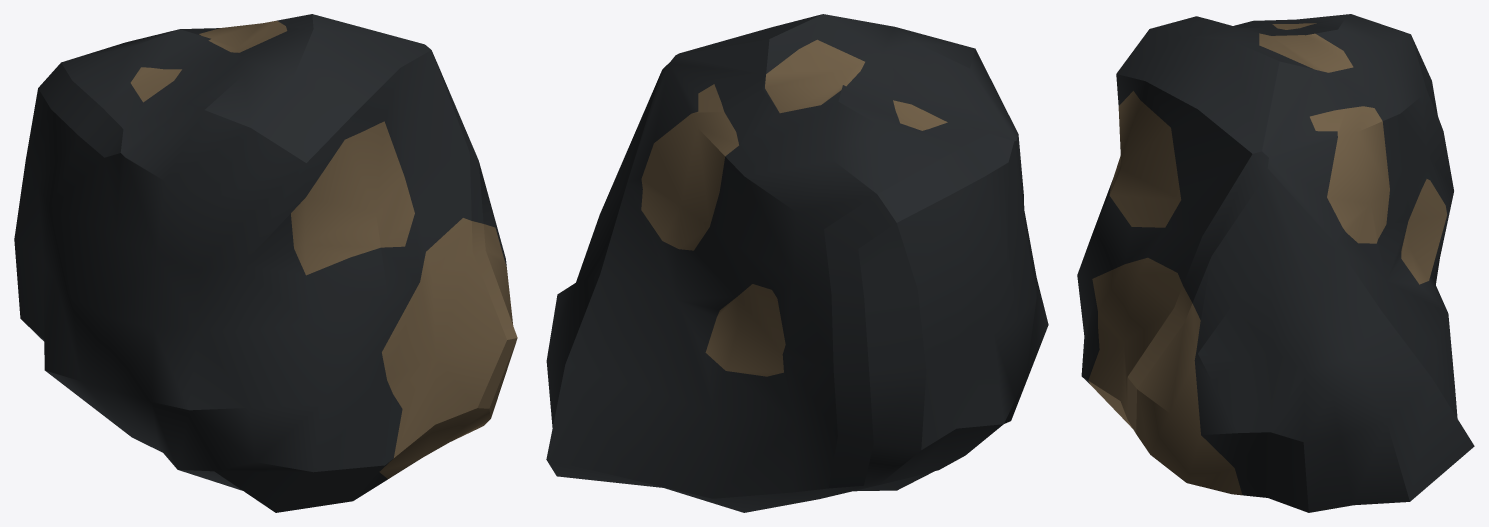
The model's file is Rock meduim 1 DQ.fbx.
3 renders of one model, left to right at view 1: azimuth 30°, elevation 25°; view 2: azimuth 150°, elevation 25°; view 3: azimuth 270°, elevation 25°, orthographic. The views are drawn at different scales.
Visible parts, largest first — view 1: rock.004; view 2: rock.004; view 3: rock.004.
Part boxes in pixels (x1,y1,x2,y2): rock.004: (14, 14, 517, 512); rock.004: (546, 14, 1048, 512); rock.004: (1077, 14, 1474, 512).
Size of the model in its own units: 133 by 135 by 116.
